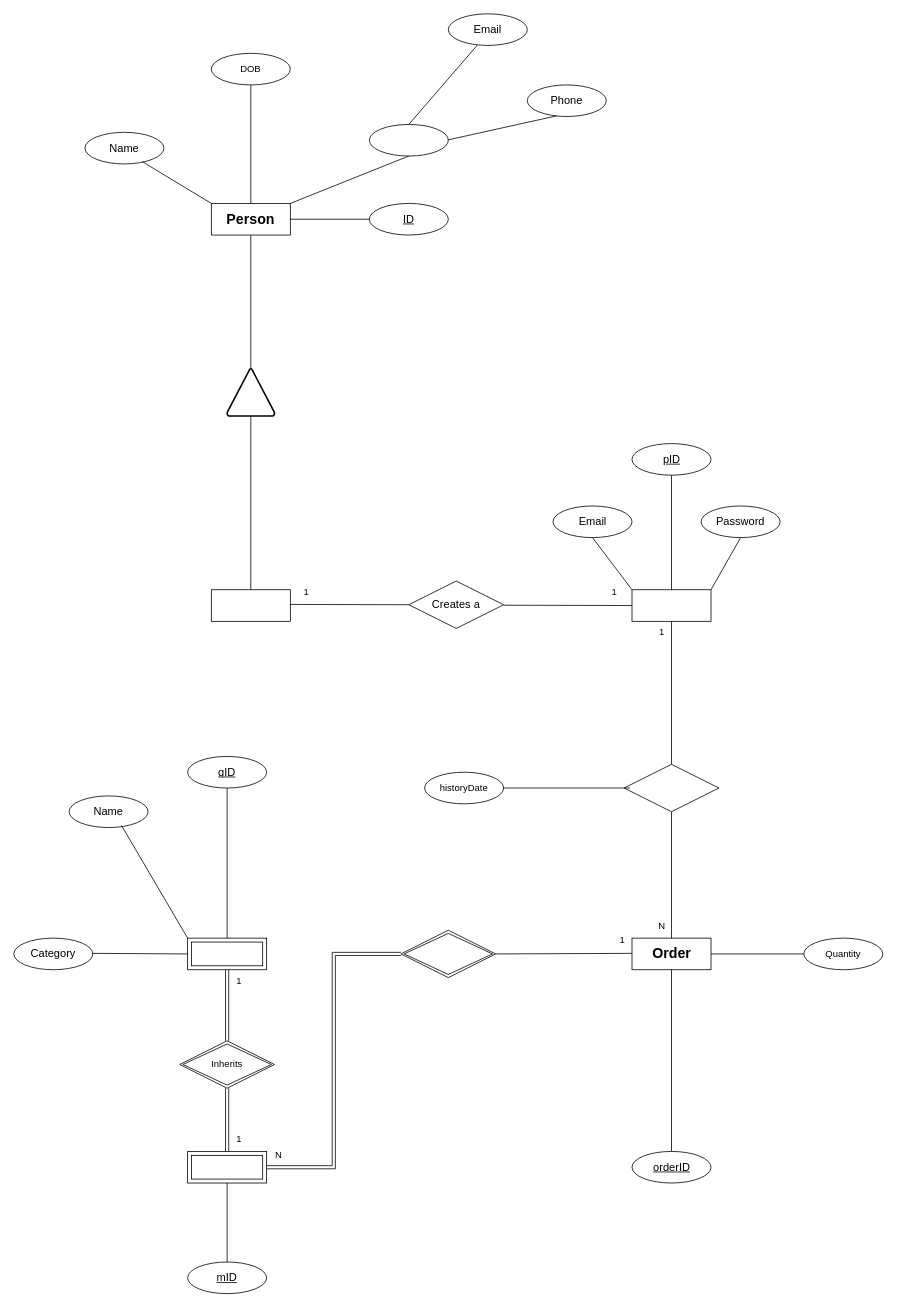
Some shapes in this 897 by 1307 pixel diagram are drawn without their labels. Each missing label, with the centre of its shape:
"Collects" belongs at point (448, 953).
"Contact" belongs at point (408, 140).
"Customer" belongs at point (250, 605).
"is a" belongs at point (250, 391).
"Item" belongs at point (227, 953).
"ItemMaster" belongs at point (227, 1167).
"Queues" belongs at point (671, 788).
"User" belongs at point (671, 605).
